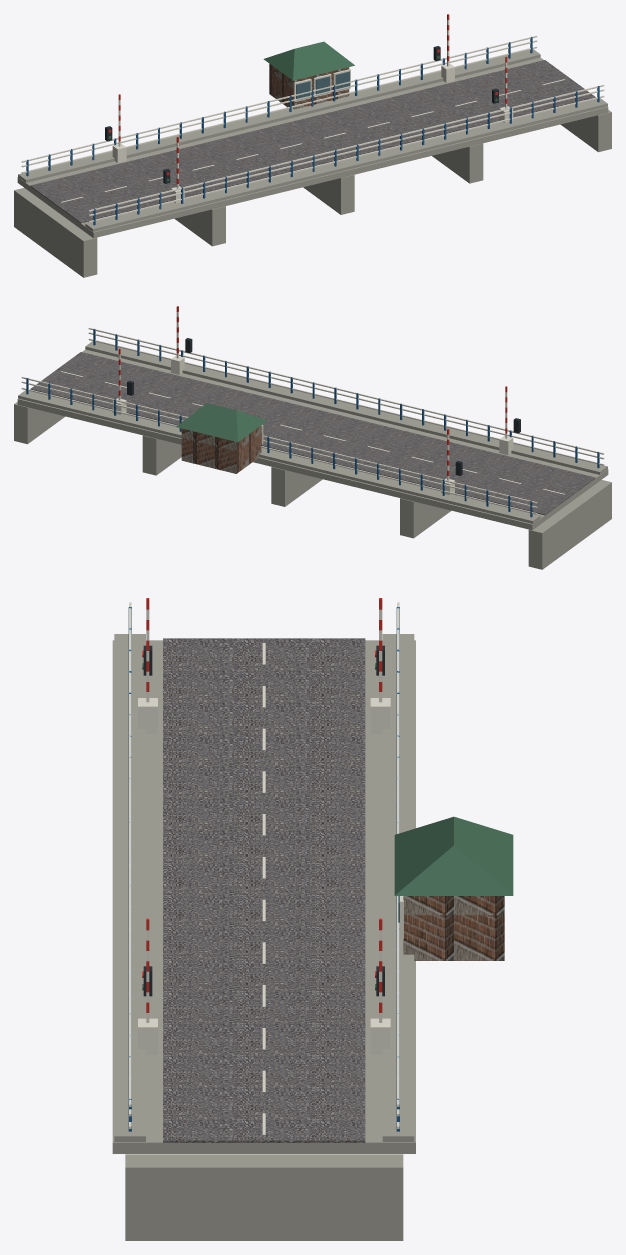
3 renders of one model, top to bottom at view 1: azimuth 30°, elevation 25°; view 2: azimuth 150°, elevation 25°; view 3: azimuth 270°, elevation 25°, orthographic. The views are drawn at different scales.
Parts seen in each view (by area): view 1: Uithoorn_irenebrug; view 2: Uithoorn_irenebrug; view 3: Uithoorn_irenebrug.
Boxes of the visible parts, bbox=[...] form: Uithoorn_irenebrug: bbox=[14, 14, 611, 277]; Uithoorn_irenebrug: bbox=[14, 306, 611, 569]; Uithoorn_irenebrug: bbox=[112, 598, 513, 1240].
Size of the model in its own units: 48.25 by 9.78 by 15.85.
9 materials, 2 textured.
